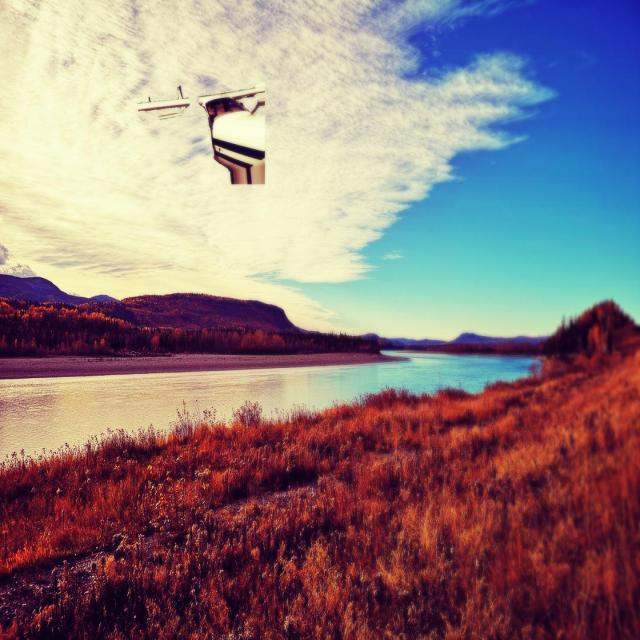airplane: (137, 82, 266, 185)
